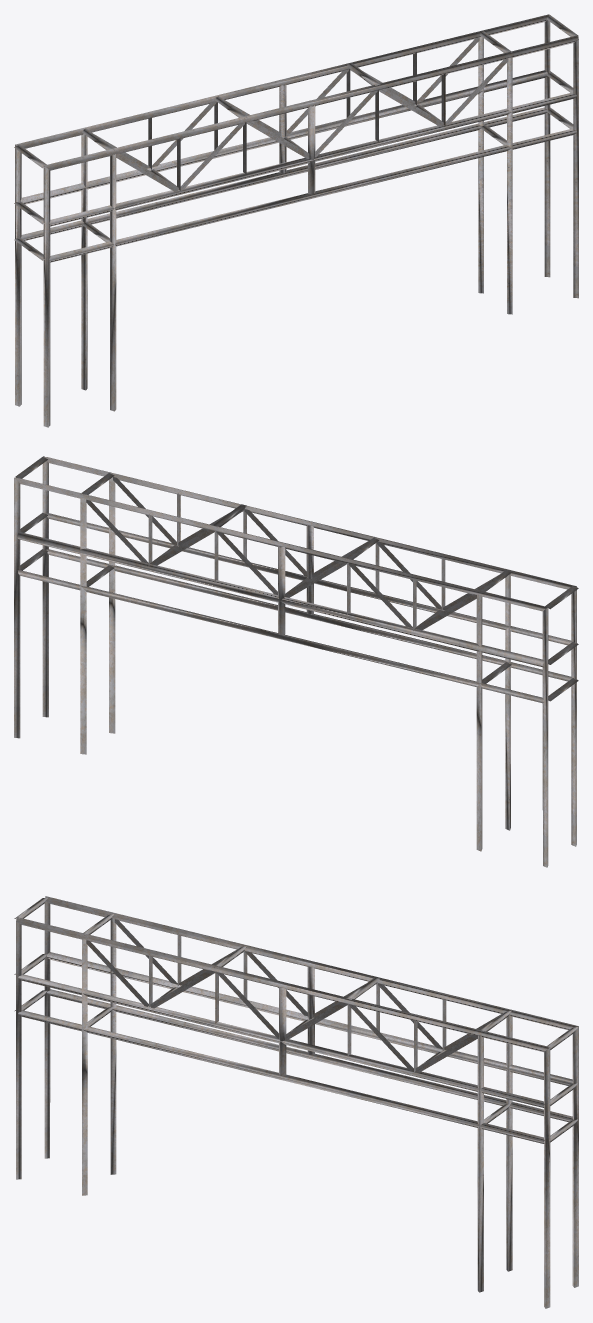
Rendered from Prop_Tjz01_lod2.glb.
3 renders of one model, top to bottom at view 1: azimuth 30°, elevation 25°; view 2: azimuth 150°, elevation 25°; view 3: azimuth 330°, elevation 25°, orthographic.
Parts seen in each view (by area): view 1: xiutz_tjz_01_lod2; view 2: xiutz_tjz_01_lod2; view 3: xiutz_tjz_01_lod2.
Part boxes in pixels (left/top/right/bottom): xiutz_tjz_01_lod2: left=14, top=14, right=578, bottom=427; xiutz_tjz_01_lod2: left=14, top=456, right=578, bottom=867; xiutz_tjz_01_lod2: left=14, top=896, right=578, bottom=1308.
Size of the model in its own units: 30.4 by 14.11 by 3.19.
Materials: 1 (1 with a texture image).
